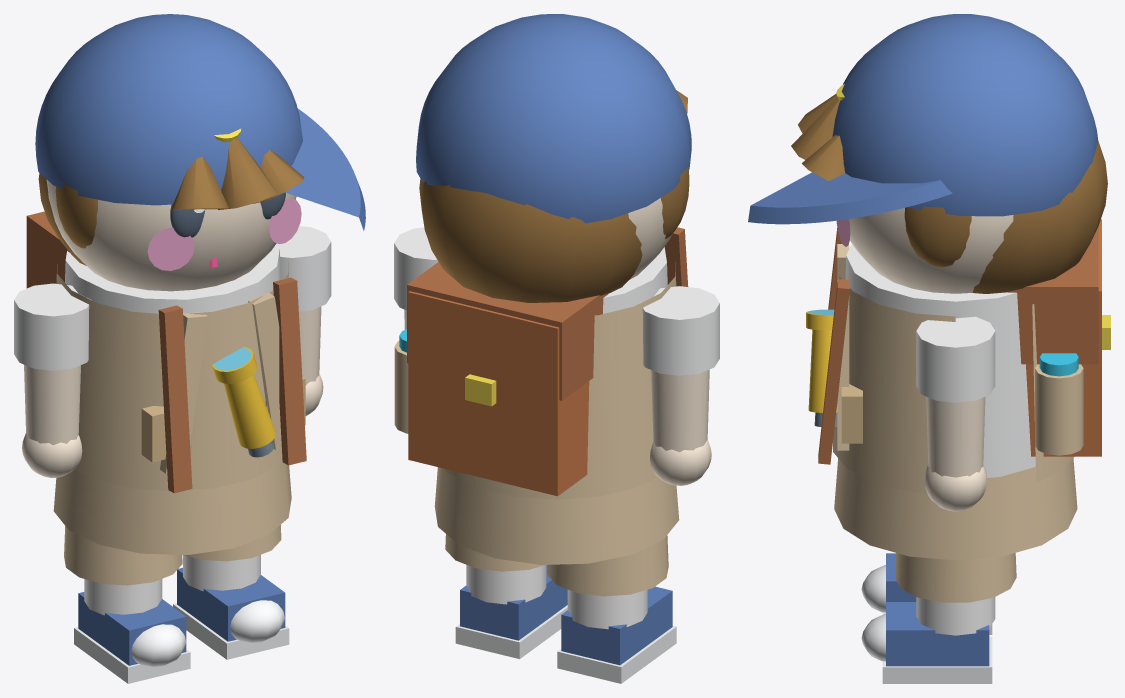
File: explorer.glb
3 views of the same model, side by side, from view 1: azimuth 30°, elevation 25°; view 2: azimuth 150°, elevation 25°; view 3: azimuth 270°, elevation 25° (orthographic). The views are drawn at different scales.
Visible parts, largest first — view 1: Torso, NavyCap, KhakiShorts, Head, ArmL, LegL, LegR, Hair, ArmR, MiniTelescope, ExplorerBackpack; view 2: NavyCap, ExplorerBackpack, KhakiShorts, Hair, Torso, ArmL, LegL, LegR, ArmR, Head; view 3: NavyCap, Torso, KhakiShorts, ExplorerBackpack, Hair, ArmR, LegR, Head, MiniTelescope, LegL.
Part boxes in pixels (<box>): Torso: <box>56,244,306,493</box>; NavyCap: <box>35,14,365,230</box>; KhakiShorts: <box>53,462,291,585</box>; Head: <box>46,179,301,291</box>; ArmL: <box>14,283,91,477</box>; LegL: <box>74,579,190,683</box>; LegR: <box>173,555,289,659</box>; Hair: <box>38,137,304,265</box>; ArmR: <box>276,226,331,415</box>; MiniTelescope: <box>212,346,275,457</box>; ExplorerBackpack: <box>26,211,69,288</box>; NavyCap: <box>416,14,691,223</box>; ExplorerBackpack: <box>394,262,607,496</box>; KhakiShorts: <box>434,467,679,596</box>; Hair: <box>419,90,689,302</box>; Torso: <box>444,227,688,499</box>; ArmL: <box>640,286,719,485</box>; LegL: <box>557,586,676,683</box>; LegR: <box>455,565,567,659</box>; ArmR: <box>394,227,438,329</box>; Head: <box>628,198,672,279</box>; NavyCap: <box>748,14,1098,224</box>; Torso: <box>818,228,1074,493</box>; KhakiShorts: <box>834,458,1077,602</box>; ExplorerBackpack: <box>1007,219,1110,456</box>; Hair: <box>791,94,1107,293</box>; ArmR: <box>916,316,995,511</box>; LegR: <box>861,597,995,683</box>; Head: <box>836,208,1013,293</box>; MiniTelescope: <box>806,309,837,426</box>; LegL: <box>861,553,992,634</box>.
Bounding box in the file's own units: 0.59 × 1.12 × 0.5965.
